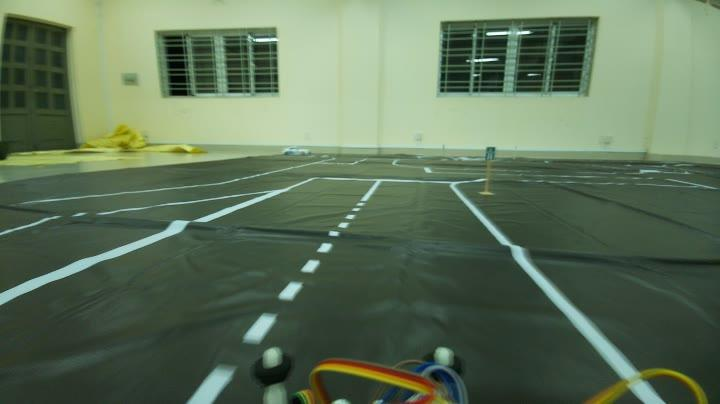highway_entry: (483, 144, 496, 162)
